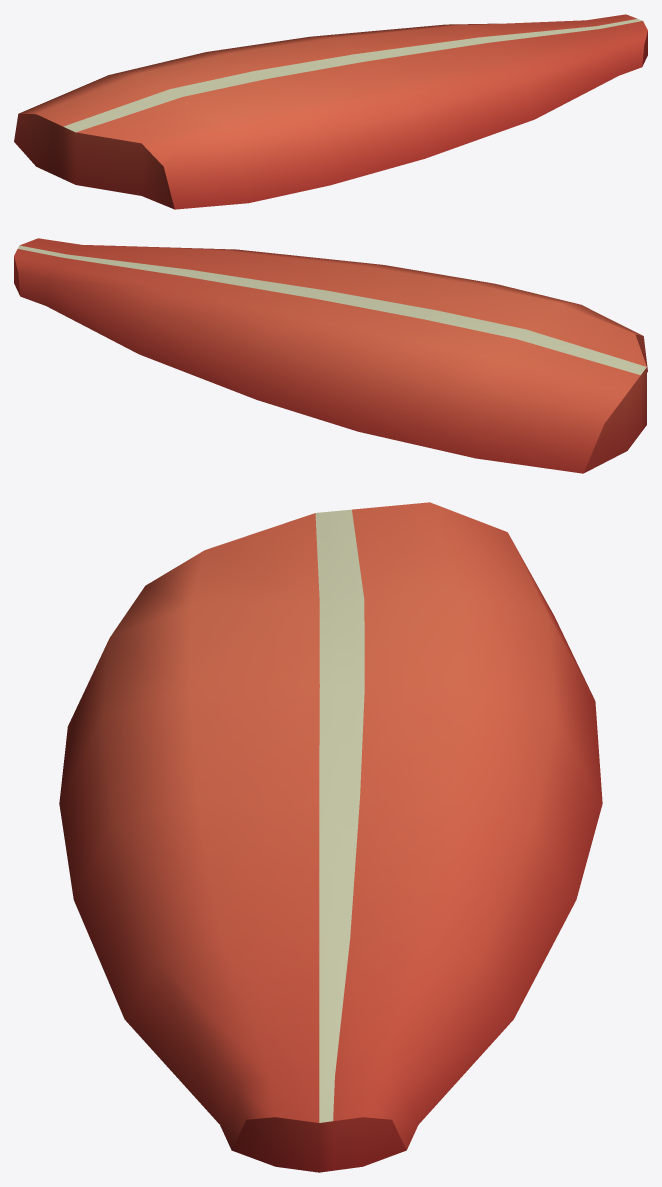
File: Salmon_Meat_01.glb
3 views of the same model, one above another, from view 1: azimuth 30°, elevation 25°; view 2: azimuth 150°, elevation 25°; view 3: azimuth 270°, elevation 25° (orthographic). The views are drawn at different scales.
Visible parts, largest first — view 1: Salmon_Meat_01; view 2: Salmon_Meat_01; view 3: Salmon_Meat_01.
Boxes of the visible parts, box(x1,y1,x2,y2) form: Salmon_Meat_01: box(14, 14, 647, 209); Salmon_Meat_01: box(14, 238, 647, 473); Salmon_Meat_01: box(59, 502, 602, 1172).
Size of the model in its own units: 0.8176 by 0.0822 by 0.3321.
Materials: 1 (1 with a texture image).
